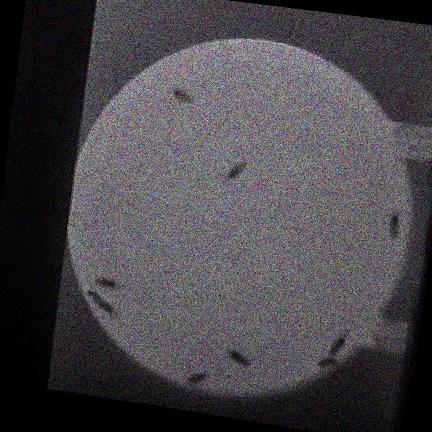fly: (318, 332, 347, 367), (86, 290, 114, 316), (327, 332, 347, 357), (224, 162, 246, 181), (225, 349, 249, 366), (94, 277, 119, 289), (172, 88, 191, 103), (388, 211, 398, 237), (187, 372, 206, 384), (318, 357, 335, 369)
